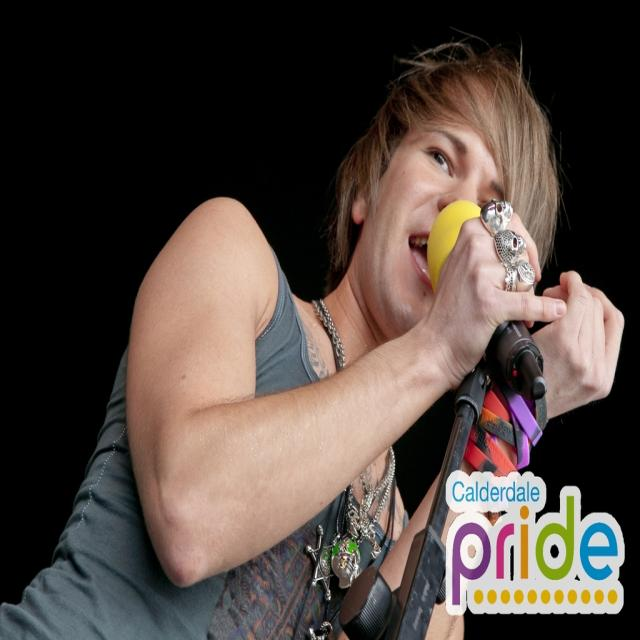Person: (0, 28, 625, 640)
